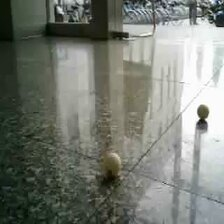w: (103, 151, 122, 177), (196, 104, 210, 120)
